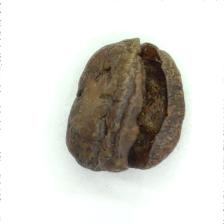NG: (117, 40, 172, 171)
